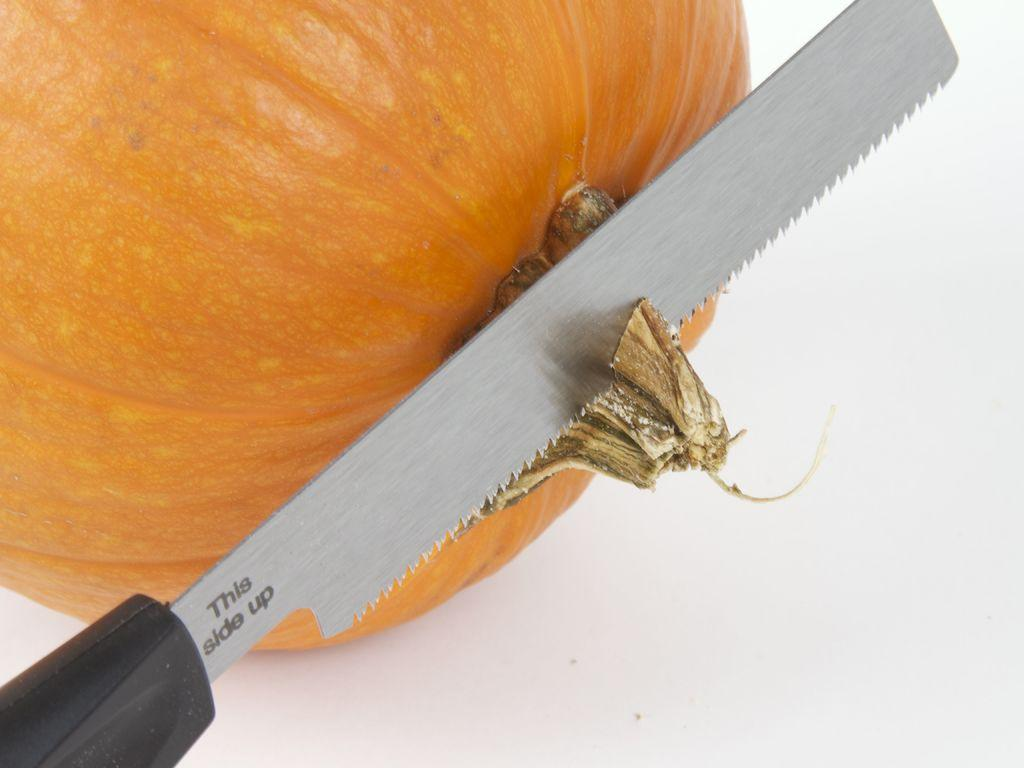Knife: (0, 0, 958, 767)
